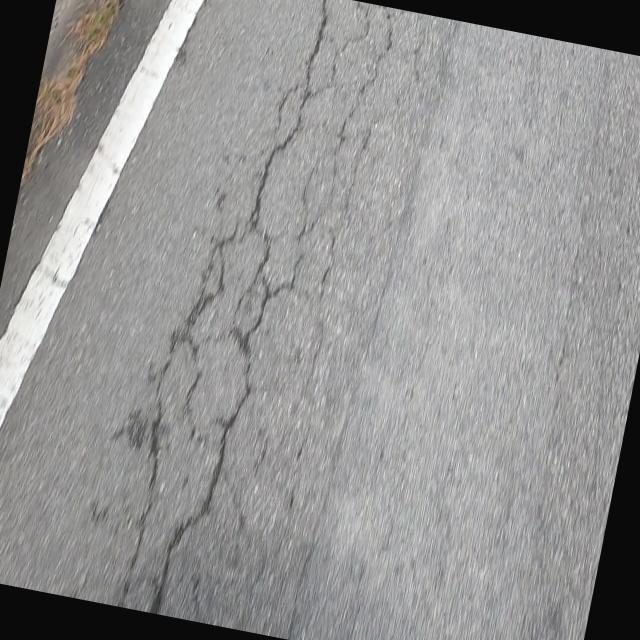Retak-Buaya: (123, 0, 424, 614)
